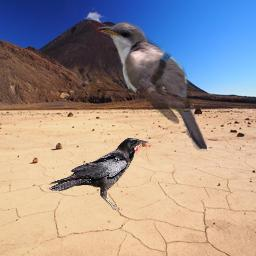Crow: (47, 135, 159, 210)
Cuckoo: (95, 19, 207, 154)
